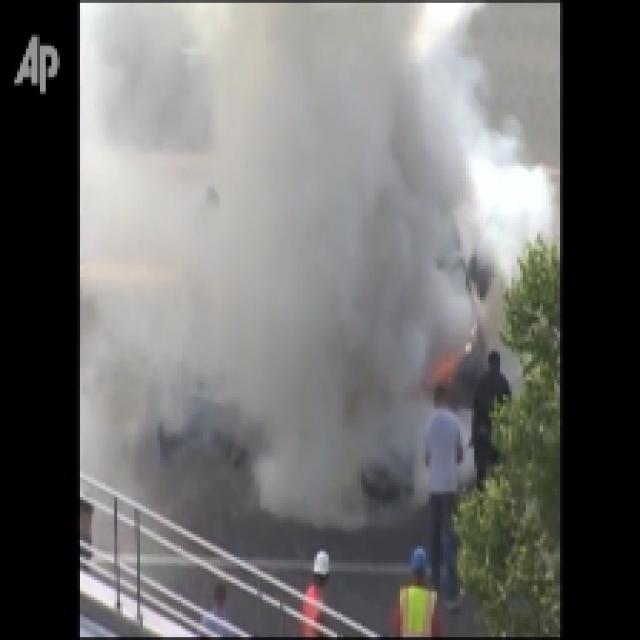smoke: (87, 4, 545, 266), (84, 269, 436, 520)
